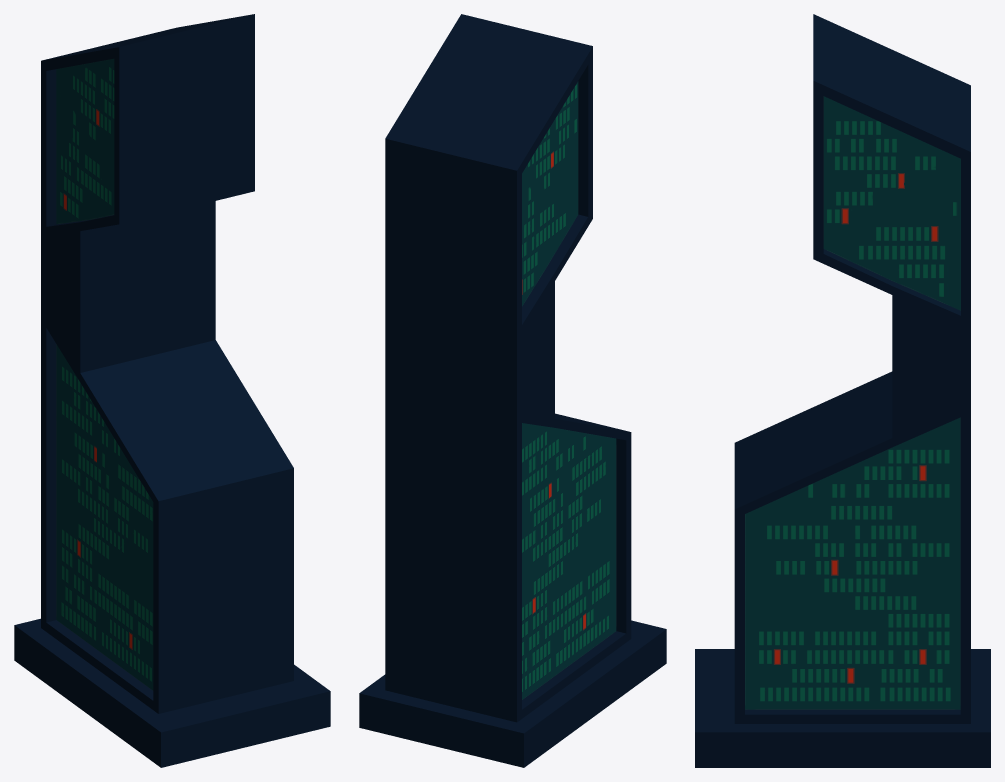
The model's file is Building1.fbx.
3 renders of one model, left to right at view 1: azimuth 30°, elevation 25°; view 2: azimuth 150°, elevation 25°; view 3: azimuth 270°, elevation 25°, orthographic. The views are drawn at different scales.
Parts seen in each view (by area): view 1: pCube5; view 2: pCube5; view 3: pCube5.
Part boxes in pixels (x1=…): pCube5: x1=14, y1=14, x2=330, y2=767; pCube5: x1=359, y1=14, x2=666, y2=767; pCube5: x1=695, y1=14, x2=990, y2=767.
Bounding box in the file's own units: 500 × 1900 × 750.
